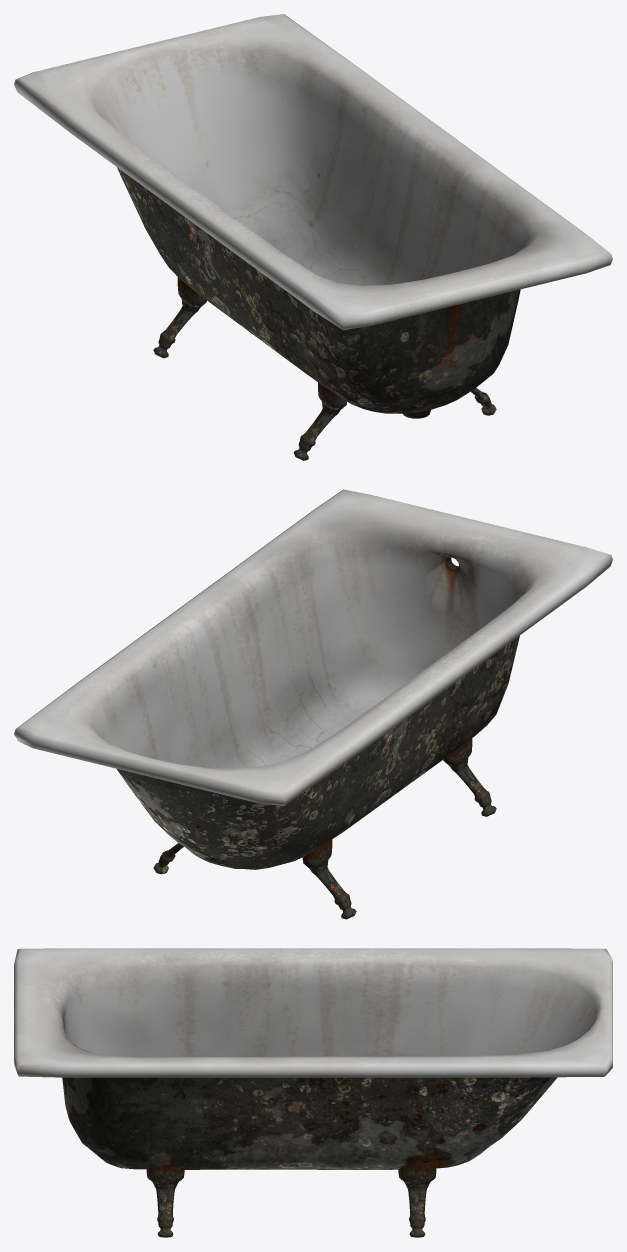
The model's file is Bath_MidPoly.fbx.fbx.
3 renders of one model, top to bottom at view 1: azimuth 30°, elevation 25°; view 2: azimuth 150°, elevation 25°; view 3: azimuth 270°, elevation 25°, orthographic. The views are drawn at different scales.
Visible parts, largest first — view 1: Bathtube.001; view 2: Bathtube.001; view 3: Bathtube.001.
Boxes of the visible parts, x1=… form: Bathtube.001: x1=14, y1=14, x2=612, y2=460; Bathtube.001: x1=14, y1=489, x2=612, y2=919; Bathtube.001: x1=14, y1=948, x2=612, y2=1237.
Bounding box in the file's own units: 146 × 109 × 310.
